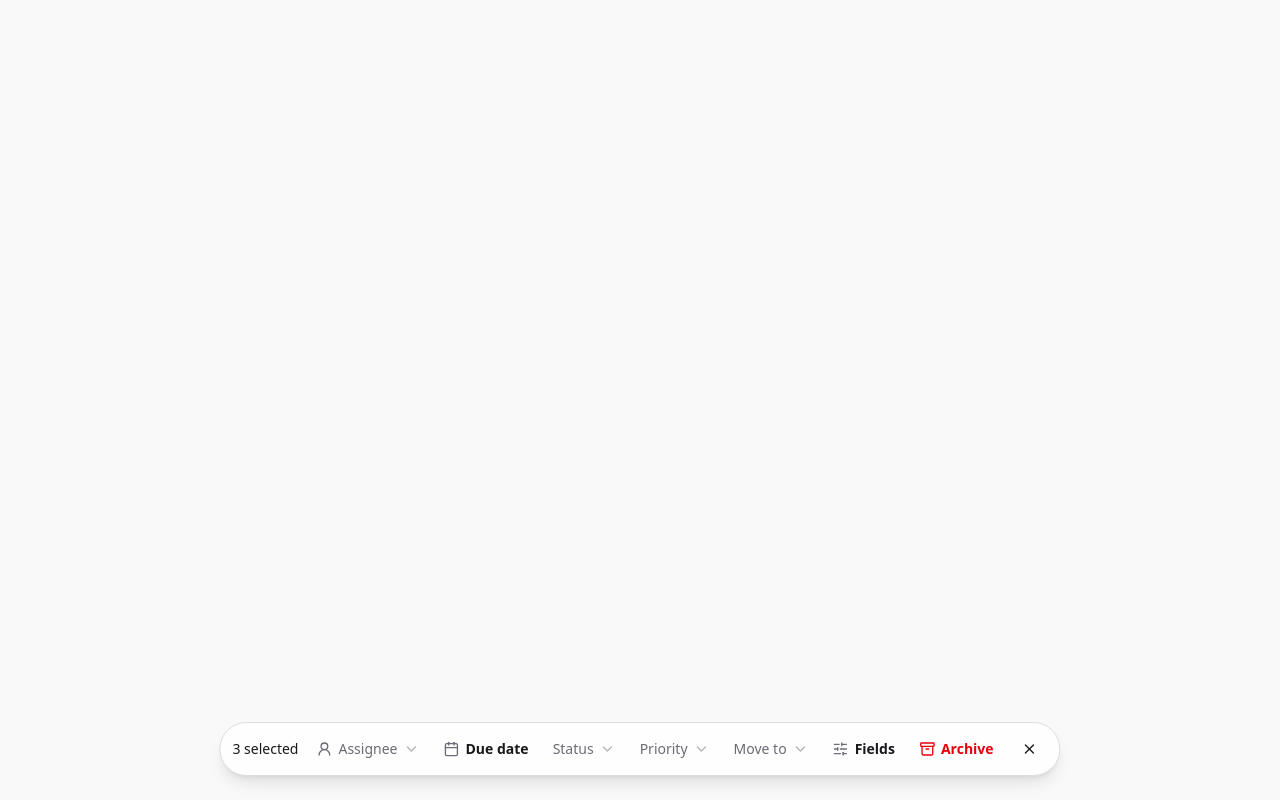
Scenario: BulkActionBar › leaves out fields nobody can set
Click the button "Fields".
click(864, 749)  # box [823,731,905,767]
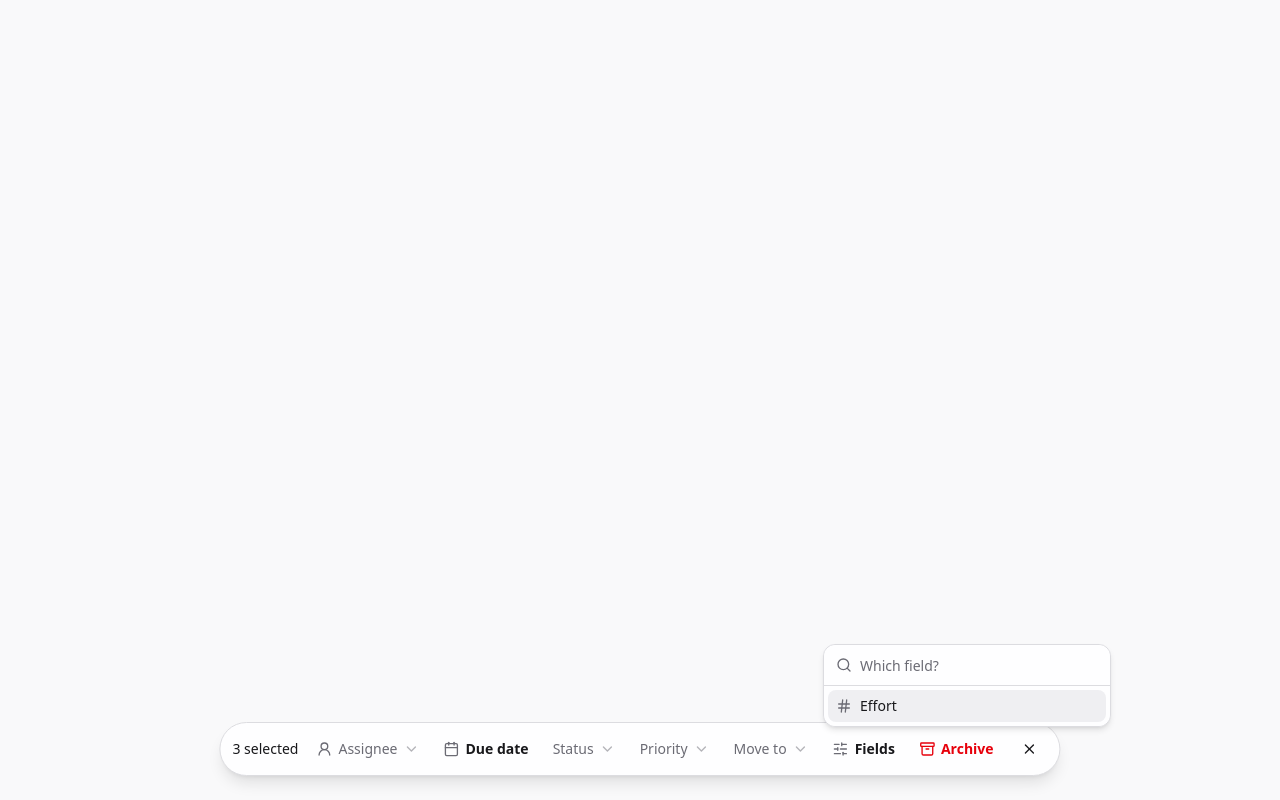
Result: the option "Effort" is shown at [828,690,1106,722]
